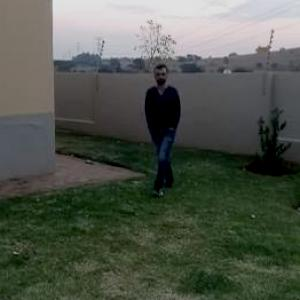follow: (137, 62, 181, 190)
